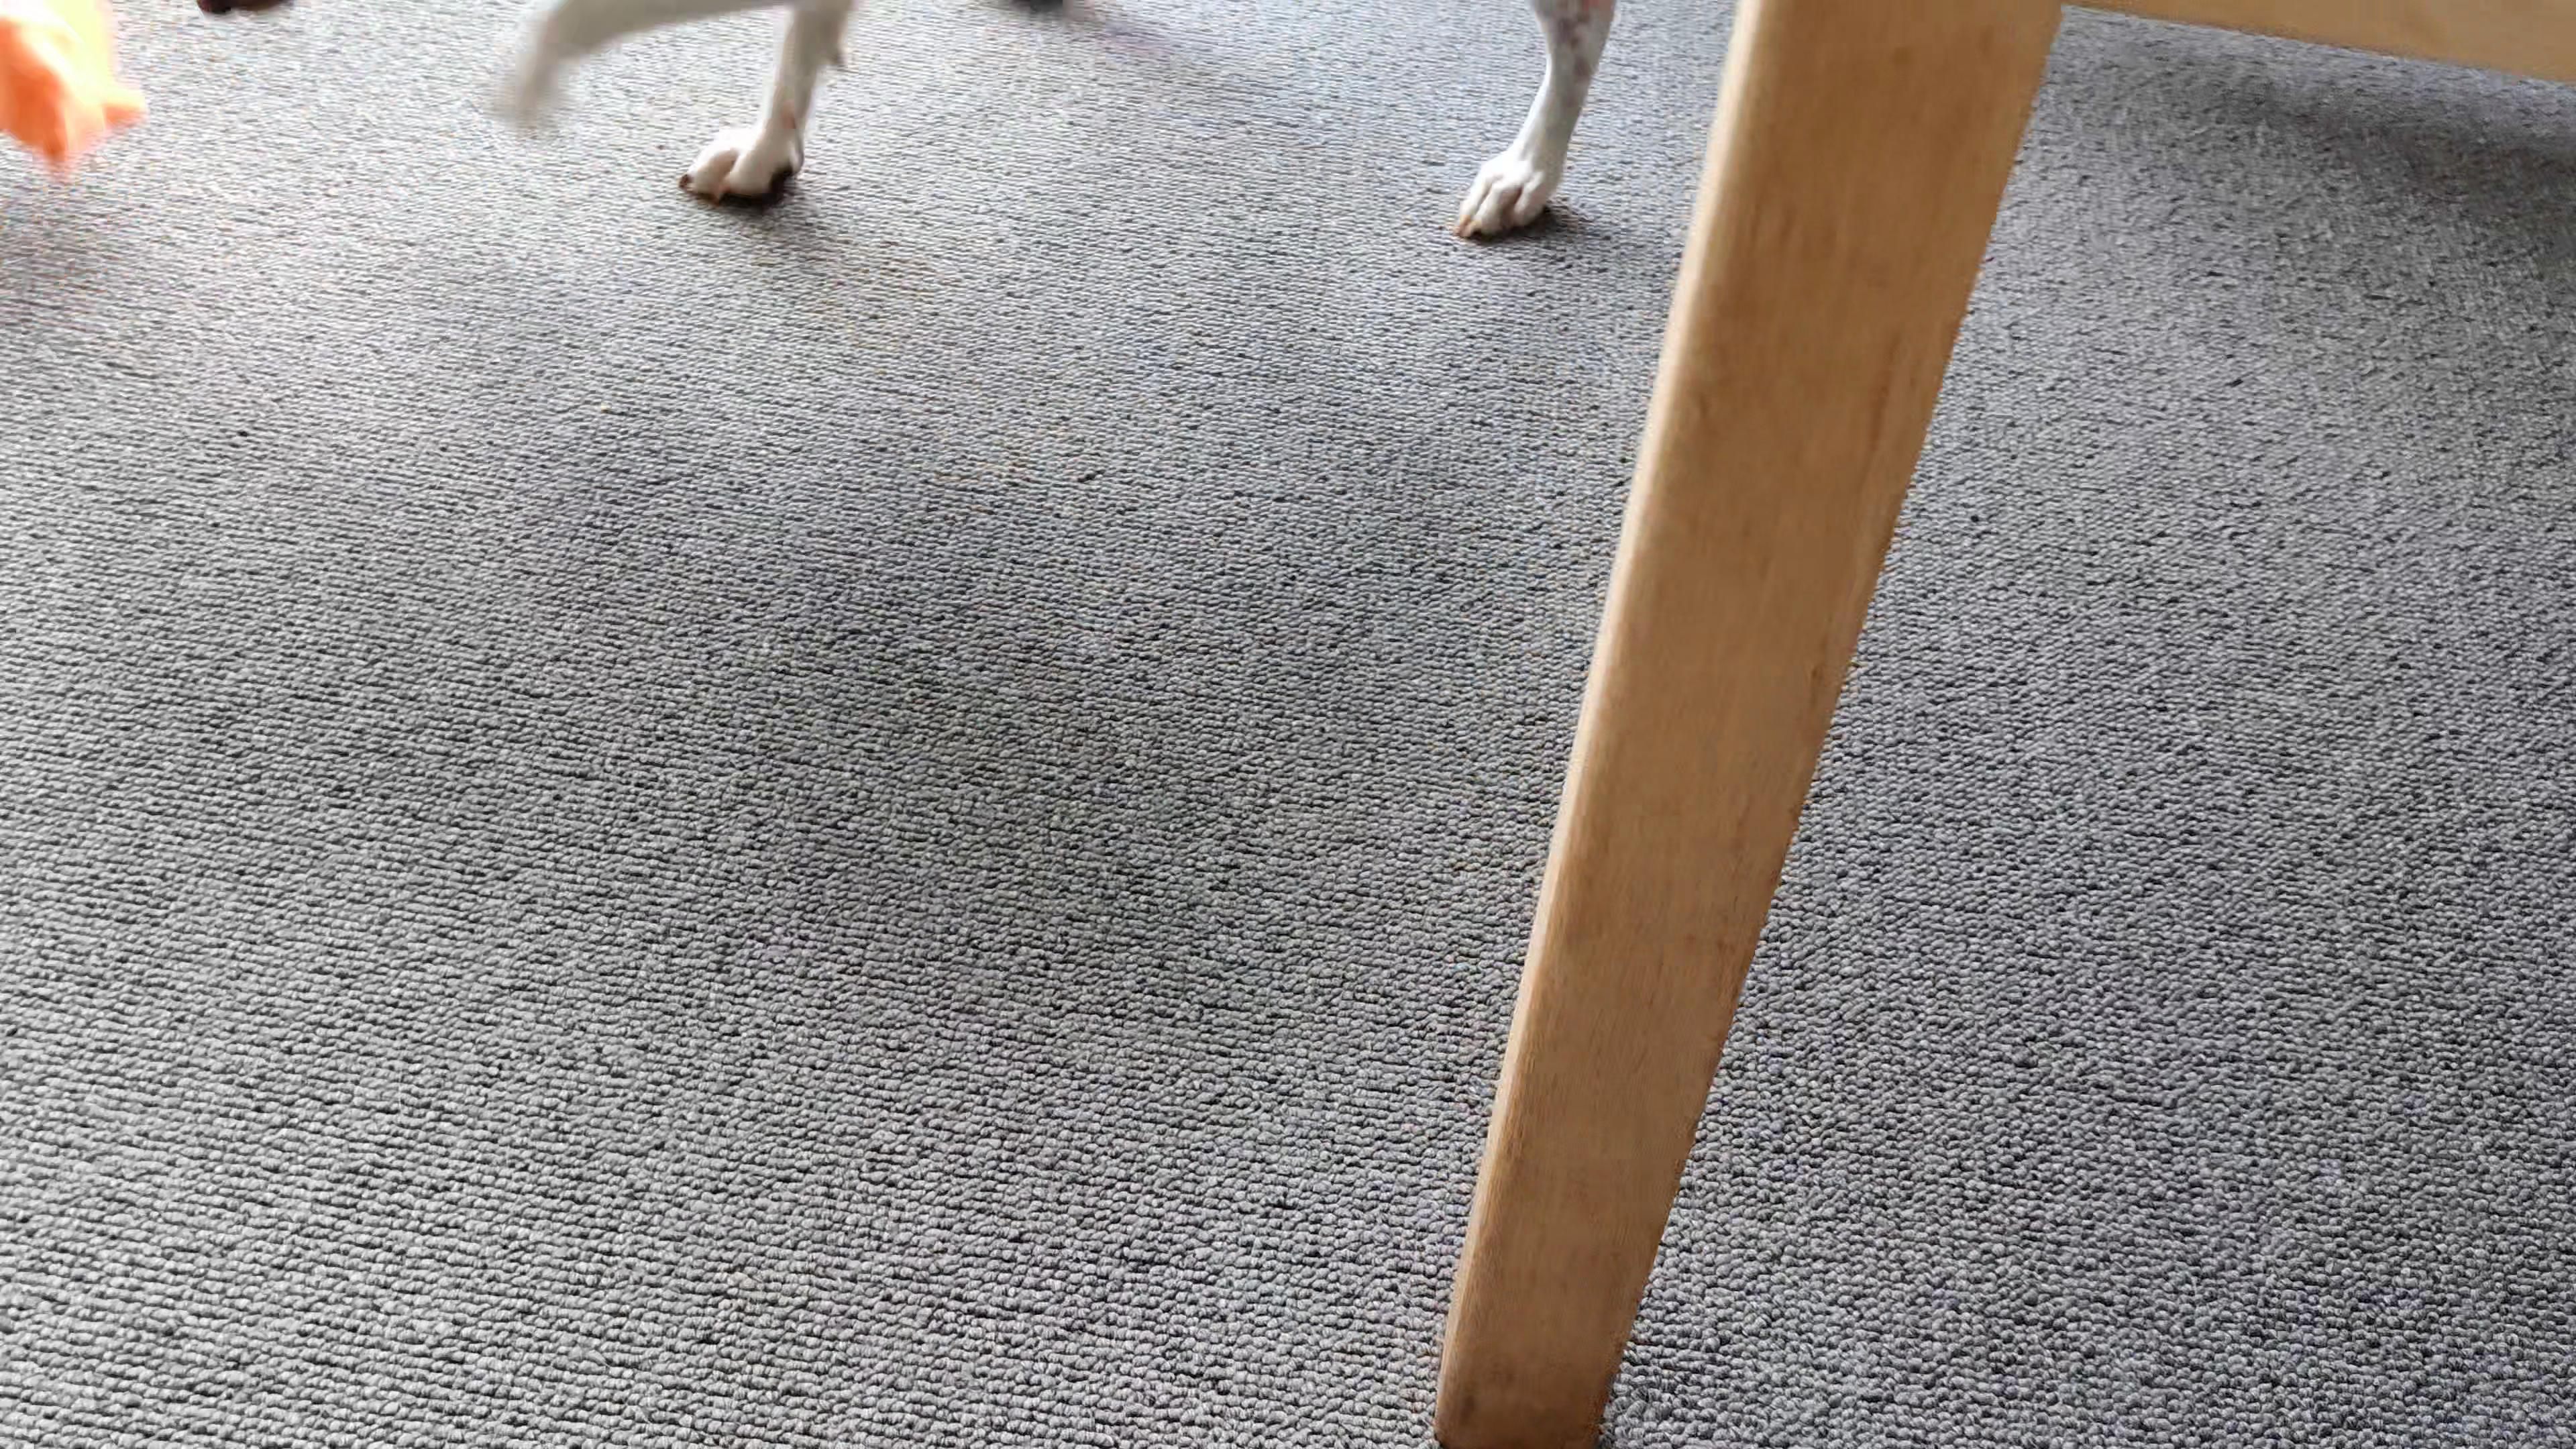Dog: (161, 0, 1665, 294)
